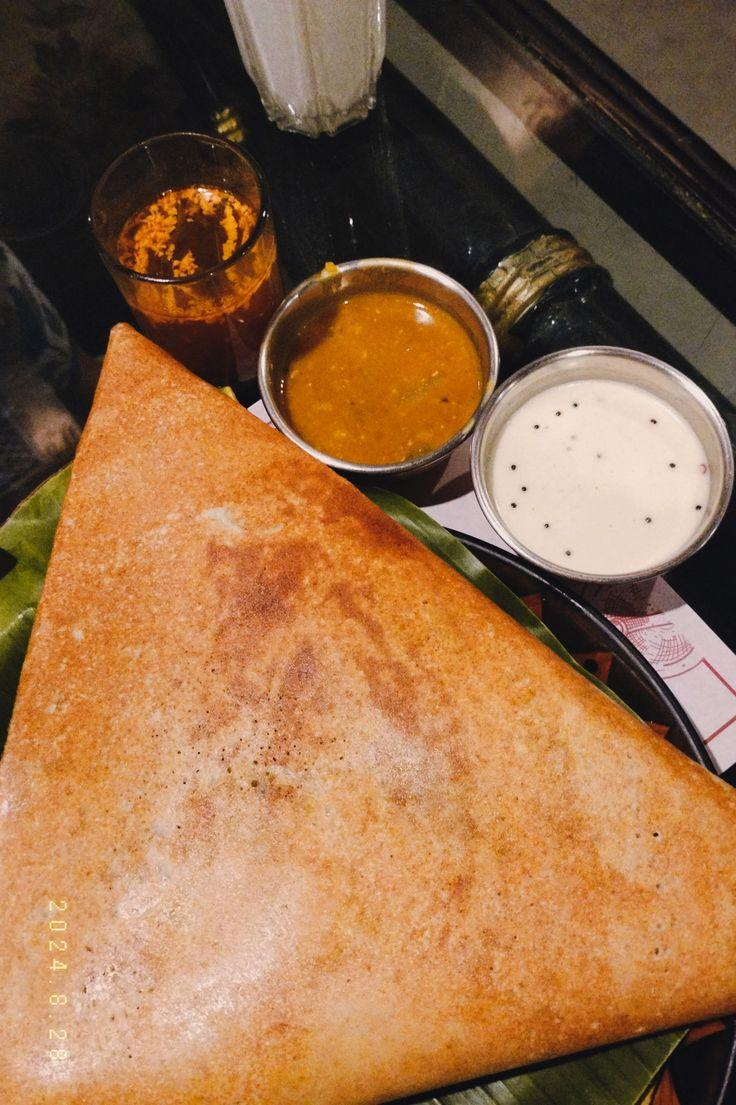dosa: (28, 340, 734, 1105)
